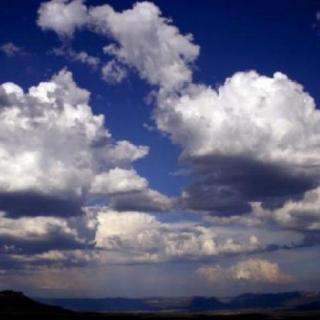Cumulus: (0, 5, 320, 278)
